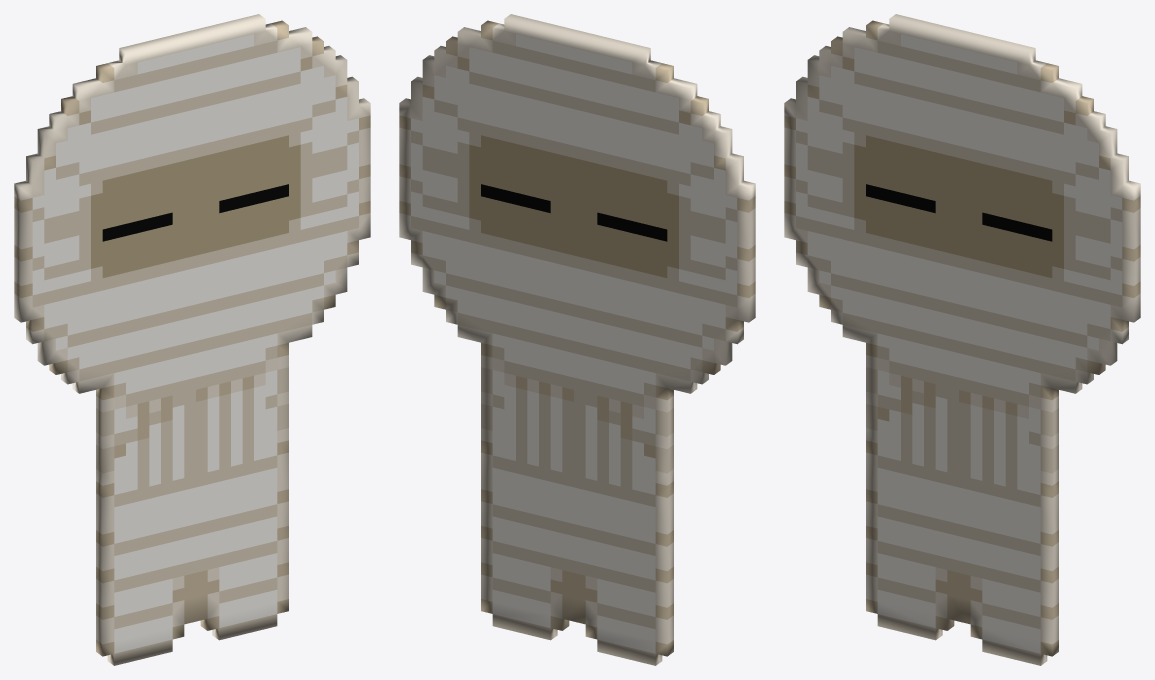
The model's file is NeutralMummy.fbx.
3 renders of one model, left to right at view 1: azimuth 30°, elevation 25°; view 2: azimuth 150°, elevation 25°; view 3: azimuth 330°, elevation 25°, orthographic.
Parts seen in each view (by area): view 1: NeutralMummyMesh; view 2: NeutralMummyMesh; view 3: NeutralMummyMesh.
Part boxes in pixels (x1,y1,x2,y2): NeutralMummyMesh: (14, 14, 370, 665); NeutralMummyMesh: (399, 14, 755, 665); NeutralMummyMesh: (784, 14, 1140, 665).
Bounding box in the file's own units: 0.6 × 1 × 0.02.
1 material, 1 textured.
